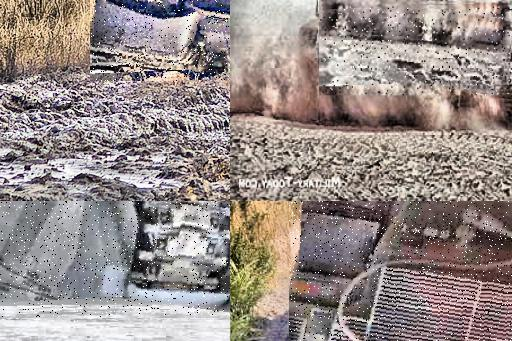tanks: (290, 202, 512, 341), (1, 202, 231, 313), (321, 8, 512, 96), (92, 1, 231, 76), (503, 96, 512, 110), (505, 81, 512, 92)
